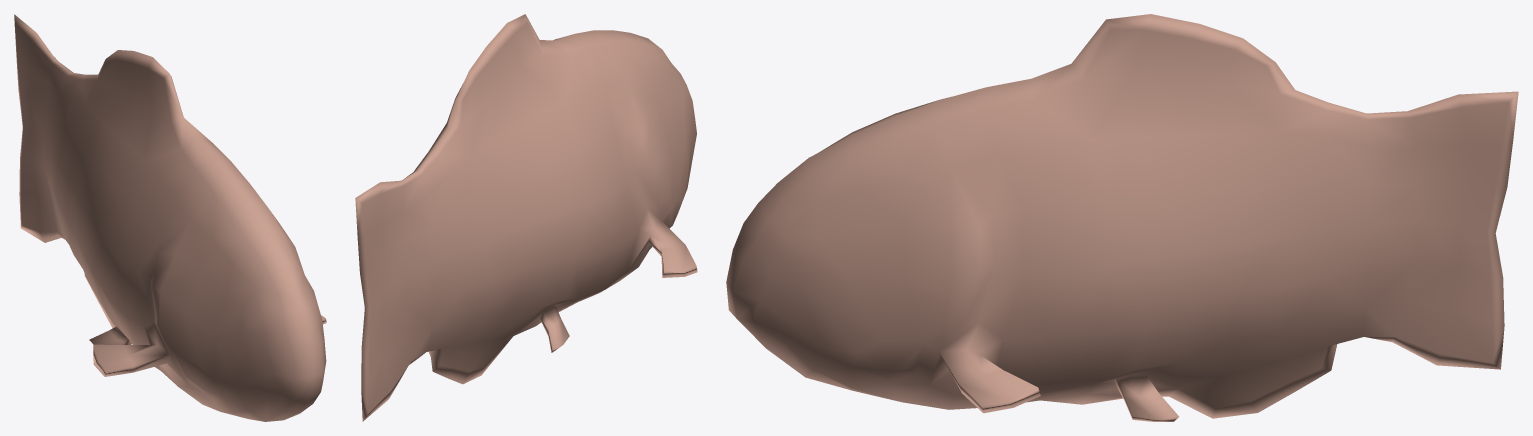
The model's file is Big Fish.fbx.
3 views of the same model, side by side, from view 1: azimuth 30°, elevation 25°; view 2: azimuth 150°, elevation 25°; view 3: azimuth 270°, elevation 25° (orthographic). The views are drawn at different scales.
Visible parts, largest first — view 1: BigFish:fish; view 2: BigFish:fish; view 3: BigFish:fish.
Part boxes in pixels (x1,y1,x2,y2): BigFish:fish: (14, 14, 326, 421); BigFish:fish: (355, 14, 697, 421); BigFish:fish: (726, 14, 1518, 421).
Bounding box in the file's own units: 96.54 × 127 × 225.
